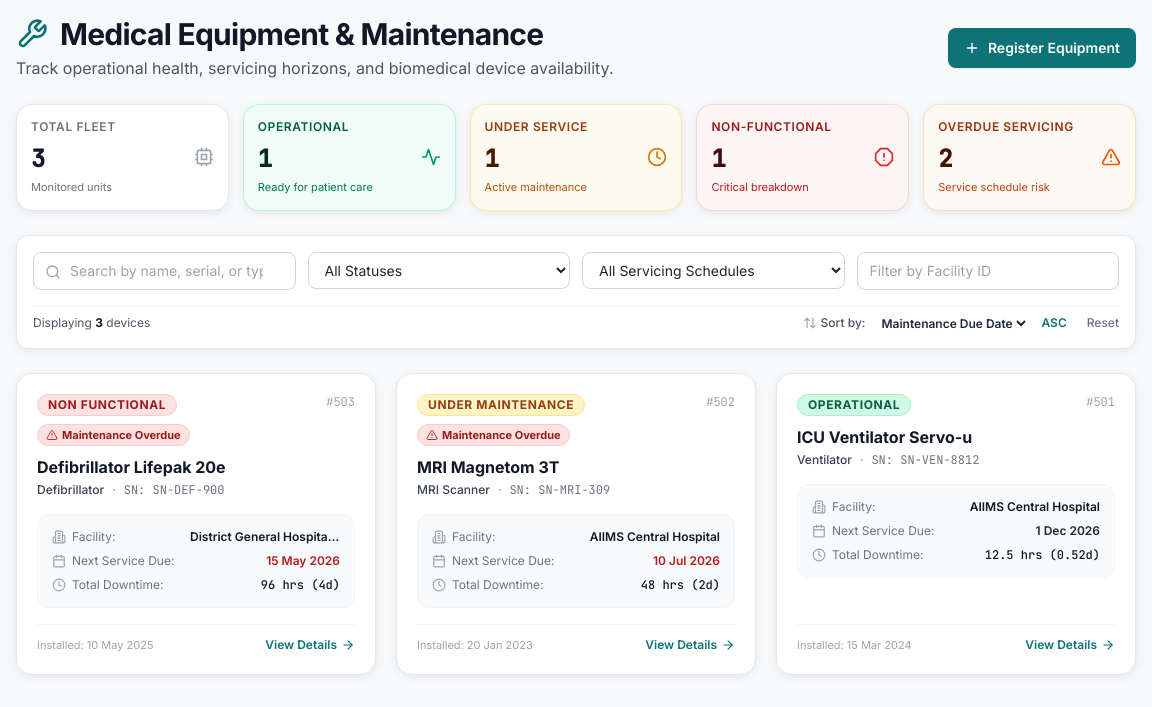
Scenario: PHASE 24 — Equipment & Maintenance Module › Equipment Directory List View (/equipment) › filters equipment list by search keyword
Expected: the heading "ICU Ventilator Servo-u" is shown, [797,426,972,446]
Type "MRI Scanner" into the field with test id "equipment-search-input". click: (164, 270)
box: [33,252,296,290]
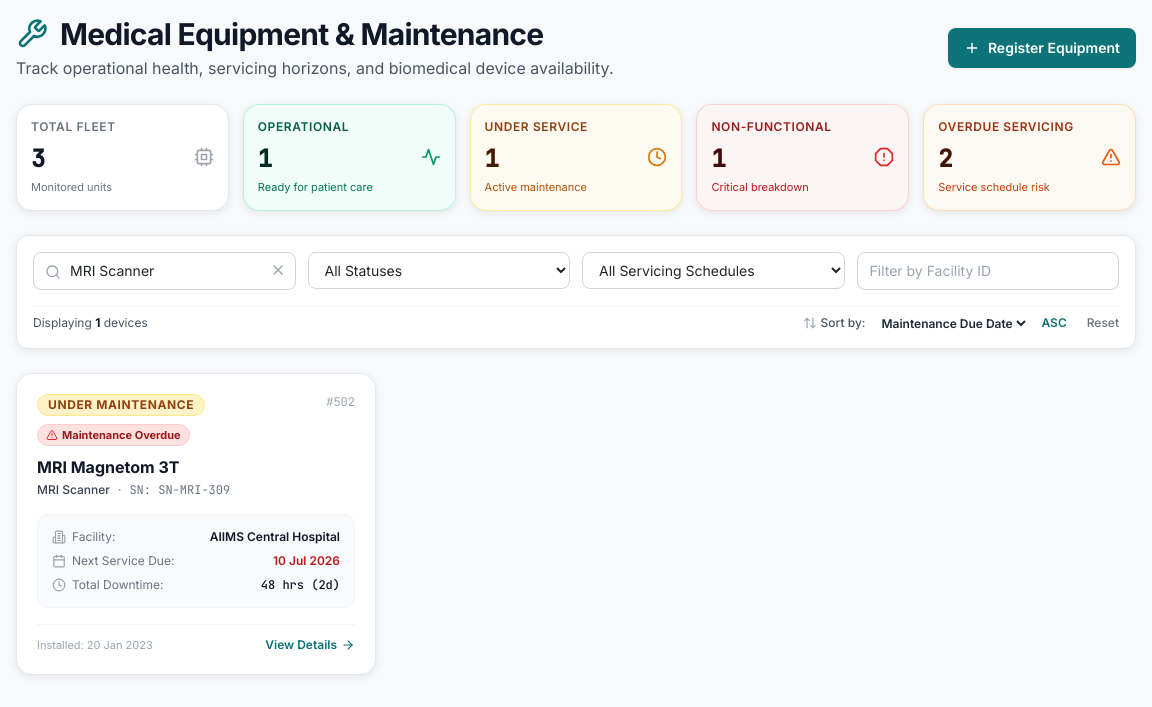
Expected: the heading "MRI Magnetom 3T" is shown, [37,457,179,477]
Expected: the heading "ICU Ventilator Servo-u" is gone
